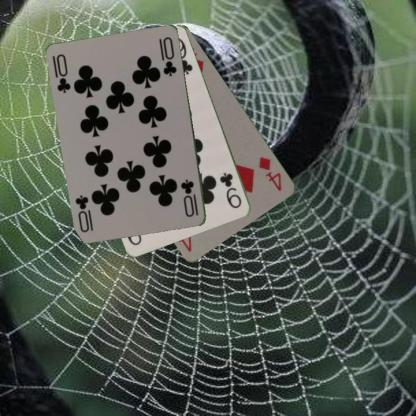10c: (50, 51, 72, 95), (178, 177, 200, 218)
4d: (257, 154, 283, 193)
9c: (217, 170, 243, 210)
